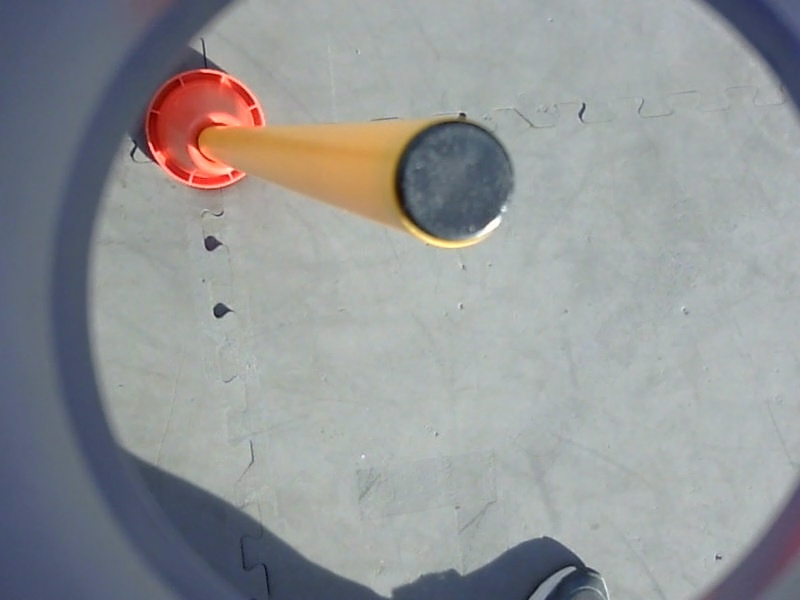tip: (379, 114, 526, 256)
